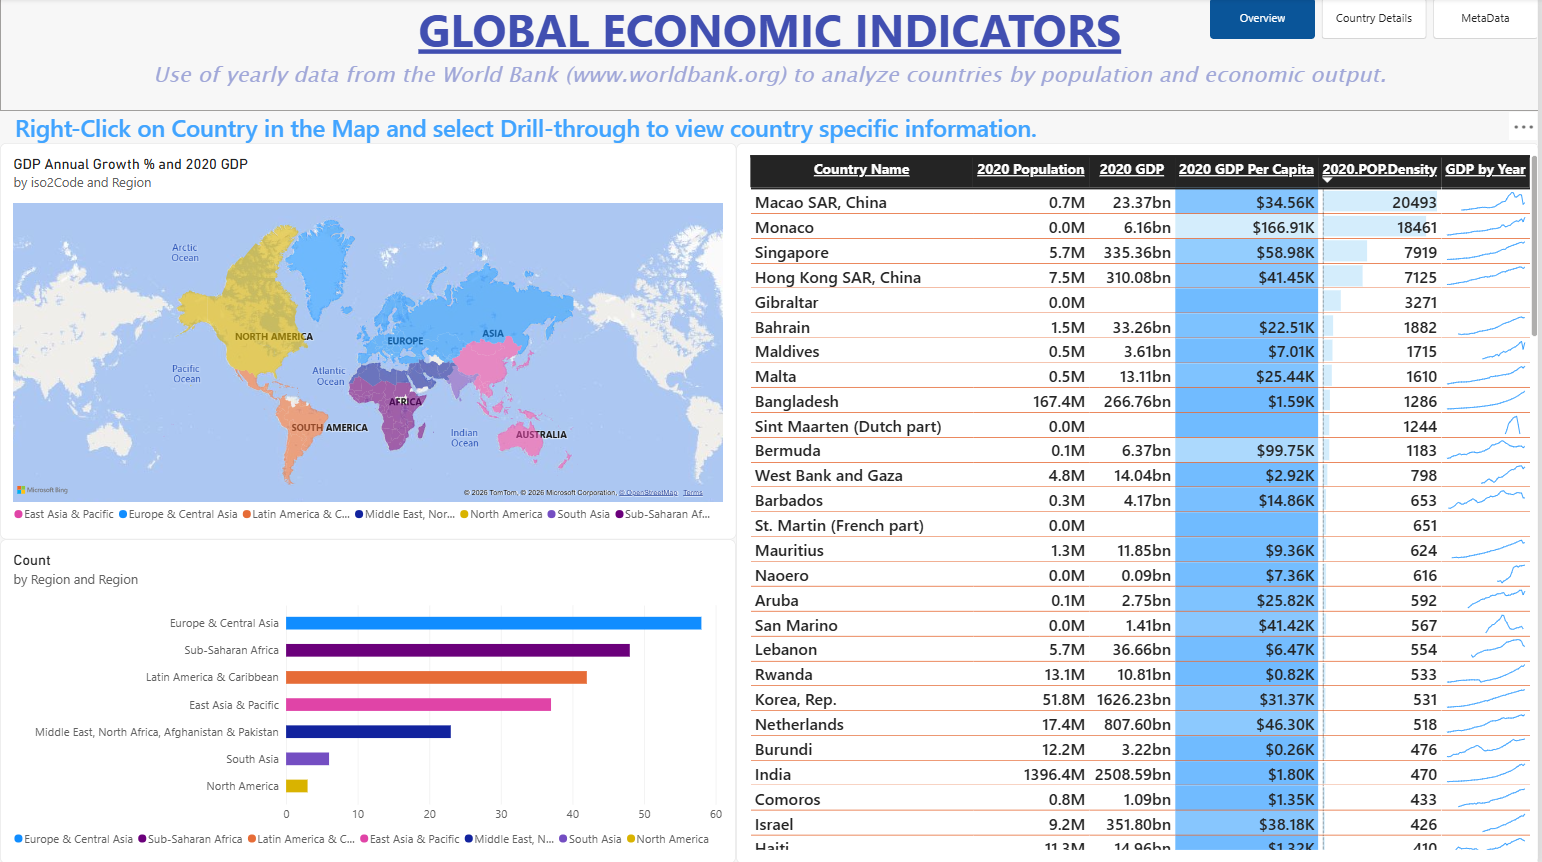

What the dashboard file says about the page in this screenshot:
{"tool":"powerbi","page":{"name":"Overview","canvas":[1920,1080],"ordinal":0},"visuals":[{"type":"tableEx","fields":{"Values":["Countries.Country Name","_Measures.2020 Population","_Measures.2020 GDP","_Measures.2020 GDP Per Capita","_Measures.2020.POP.Density","SparklineData(_Measures.GDP_[Indicators.Year])"]},"box":[918.7,181.6,1001.3,898.9],"z":0},{"type":"filledMap","fields":{"Category":["Countries.iso2Code"],"Series":["Countries.Region"]},"box":[0,181.6,918.7,494.4],"z":1000},{"type":"barChart","fields":{"Category":["Countries.Region"],"Series":["Countries.Region"],"Y":["_Measures.Count"]},"box":[0,675.6,917.8,404.4],"z":2000},{"type":"textbox","box":[0,0,1920,140],"z":3000},{"type":"pageNavigator","box":[1508.9,0,411.1,51.1],"z":3001},{"type":"textbox","title":"Right-Click on Country in the Map and select Drill-through to view country specific information.","box":[18.7,141.5,1455,40],"z":3002}]}

Visuals, with their boxes in screenshot pixels (x1, y1, x2, y2), scaled from the page's 1920x1080 canvas onto the 1542x862 screenshot:
tableEx - Countries.Country Name x _Measures.2020 Population: [left=738, top=145, right=1541, bottom=861]
filledMap - Countries.iso2Code x Countries.Region: [left=0, top=145, right=738, bottom=540]
barChart - Countries.Region x Countries.Region: [left=0, top=539, right=737, bottom=861]
textbox: [left=0, top=0, right=1541, bottom=112]
pageNavigator: [left=1212, top=0, right=1541, bottom=41]
"Right-Click on Country in the Map and select Drill-through to view country specific information." textbox: [left=15, top=113, right=1184, bottom=145]
